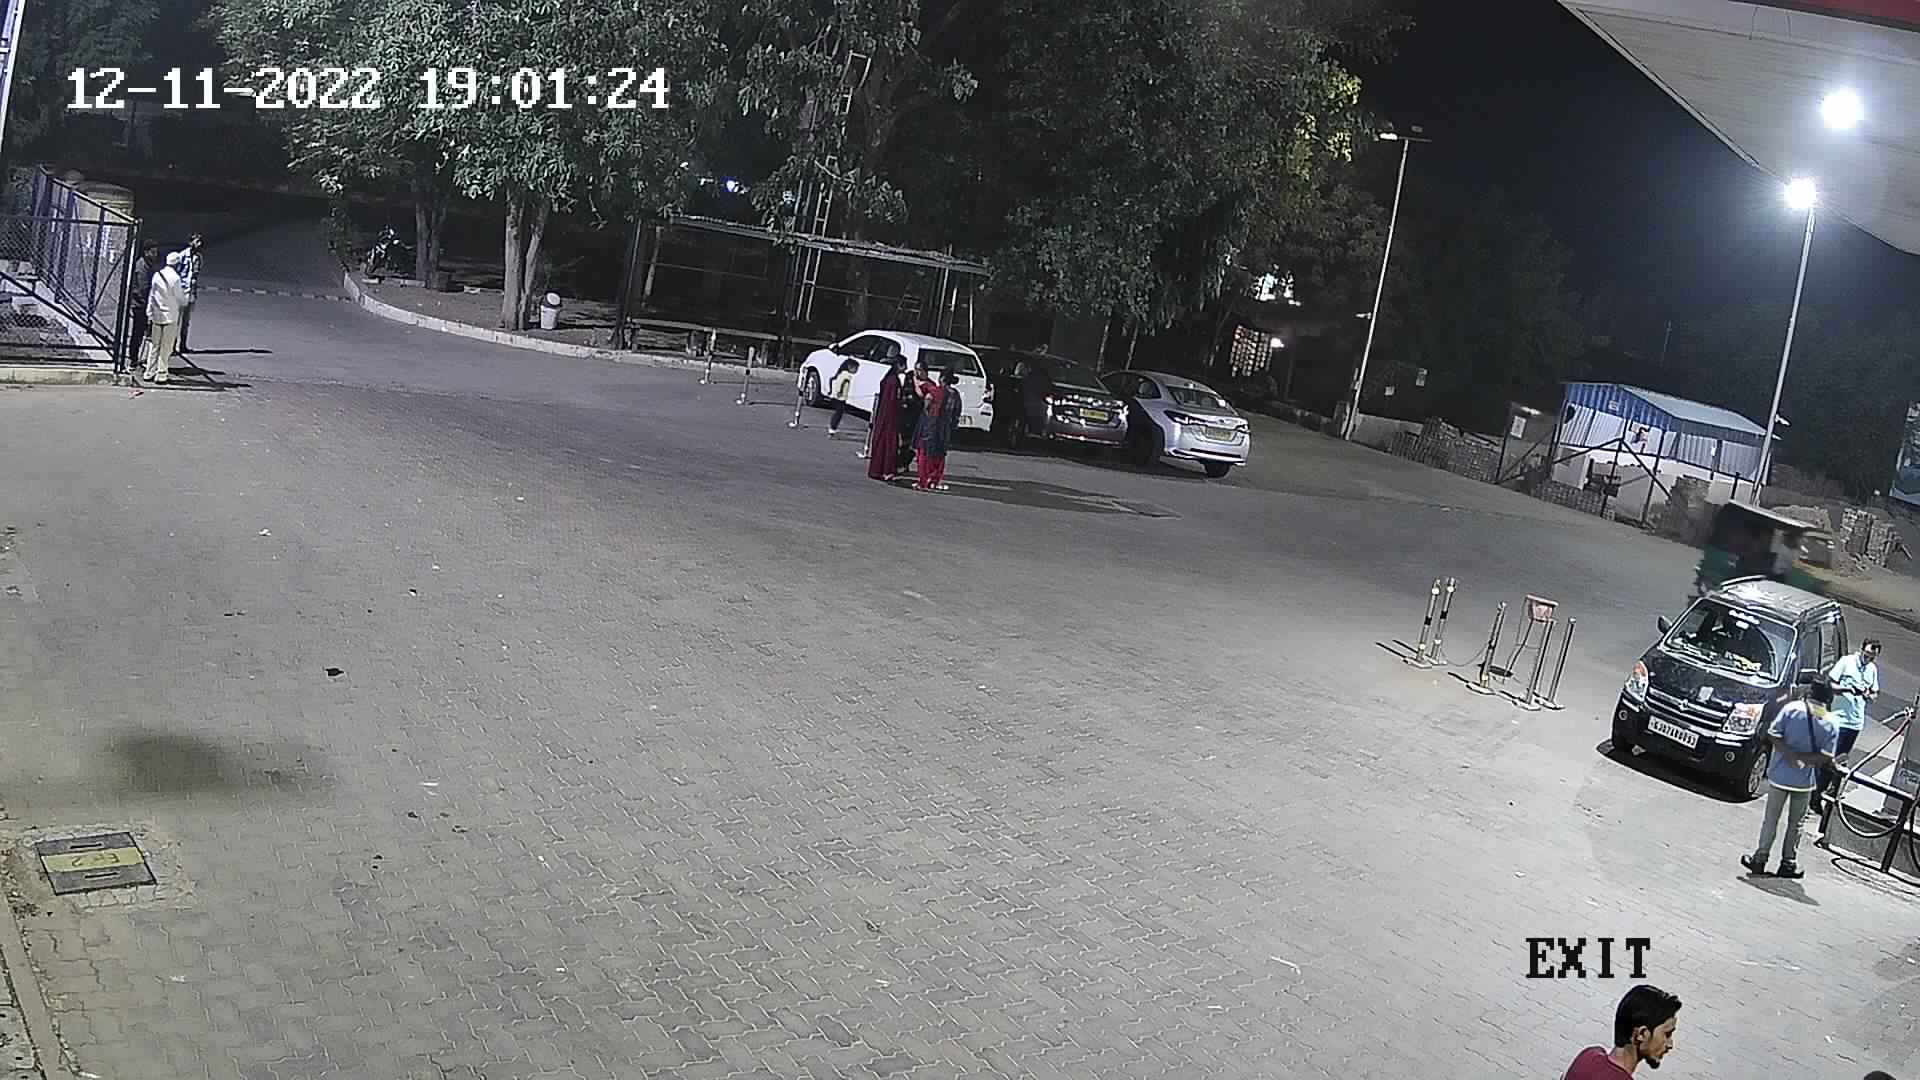Auto: (1679, 488, 1847, 618)
Bike: (351, 206, 418, 299)
Car: (1601, 566, 1855, 803), (789, 323, 1007, 454), (961, 335, 1139, 471), (1092, 360, 1254, 483)
Others: (1731, 669, 1845, 880)
